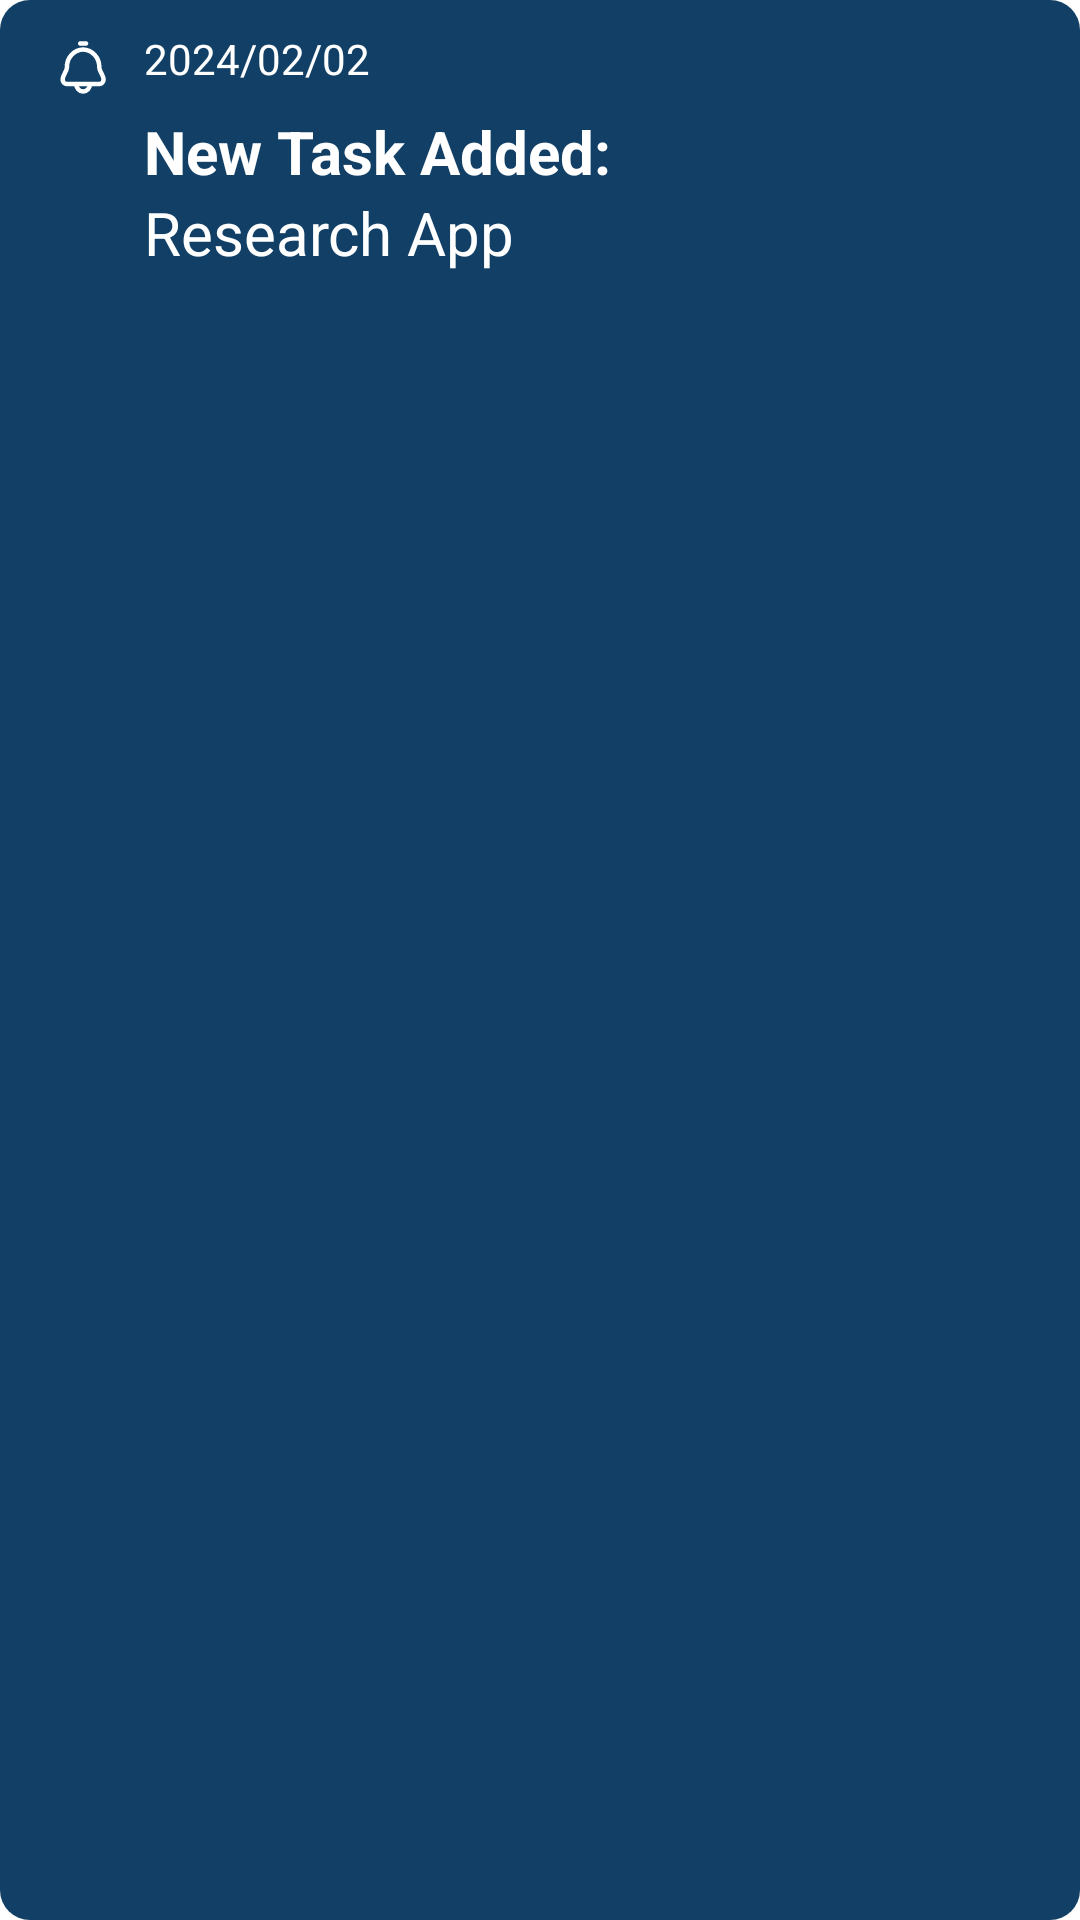

Where to tap for icons on this 1080x1920 app screen, as (x,y):
notification: (83,67)
